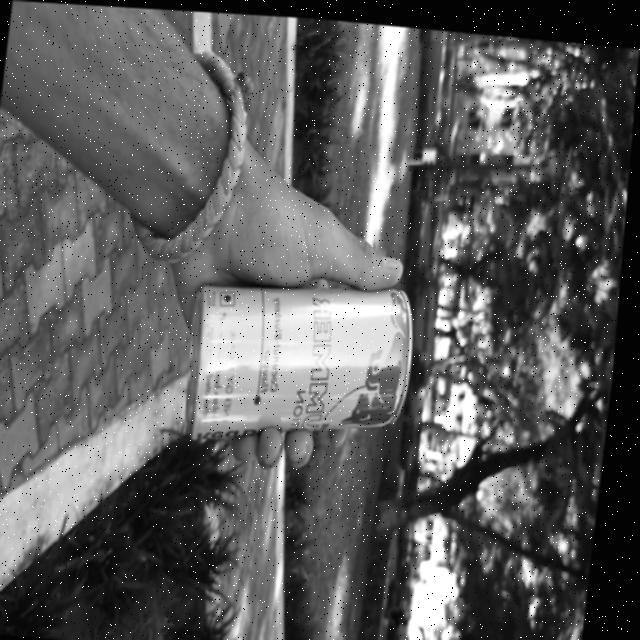Redbull Summer Edition: (188, 264, 419, 441)
